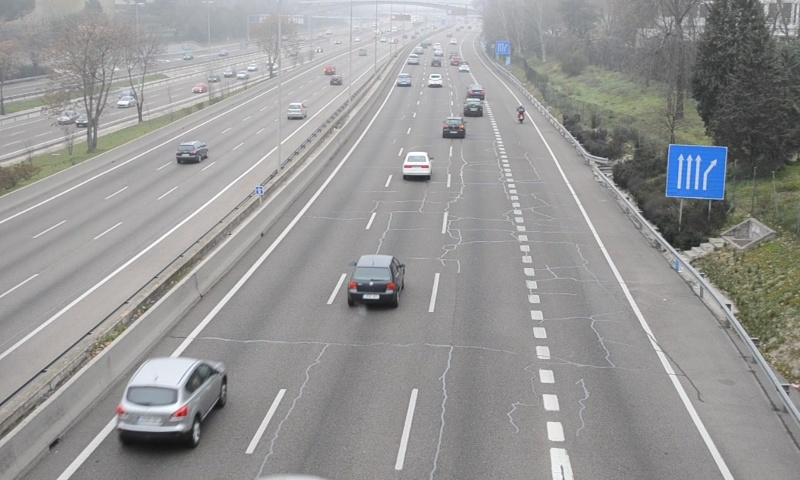car: (118, 356, 227, 437), (348, 254, 405, 304), (402, 150, 432, 178), (442, 116, 467, 139), (463, 98, 484, 118), (466, 84, 486, 99), (426, 72, 444, 88)
motorcycle: (516, 104, 526, 125)
